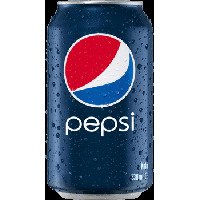pepsi: (46, 1, 155, 200)
